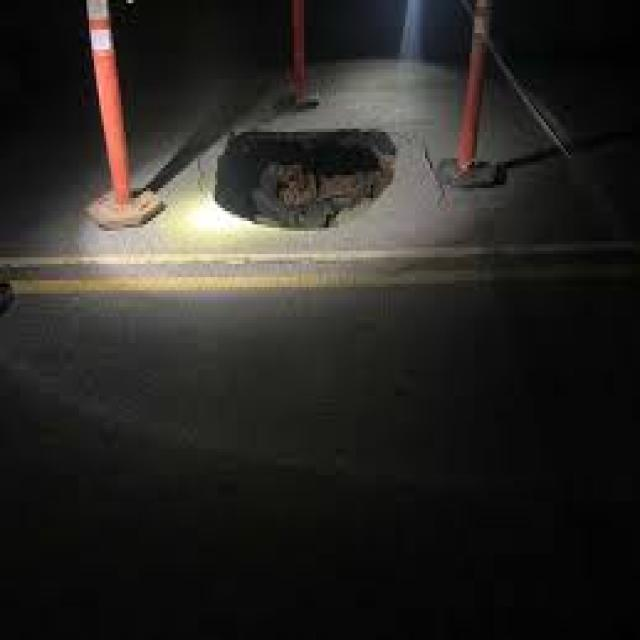Pothole: (218, 128, 392, 228)
